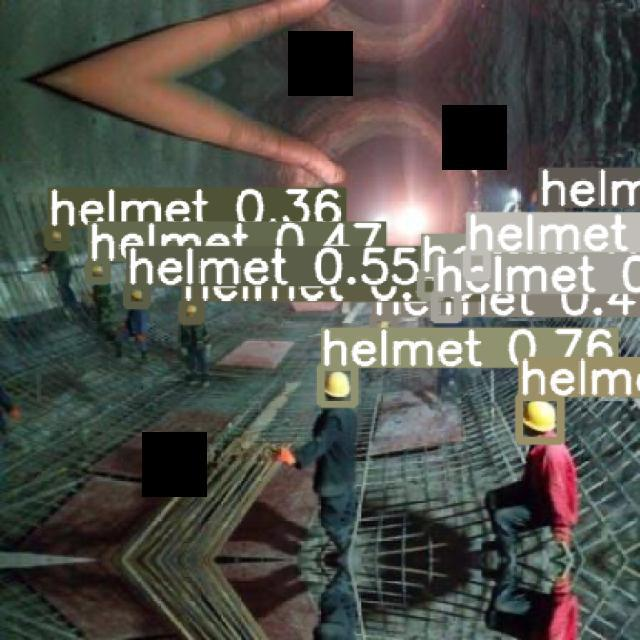helmet: (522, 400, 556, 432), (323, 371, 351, 398)
